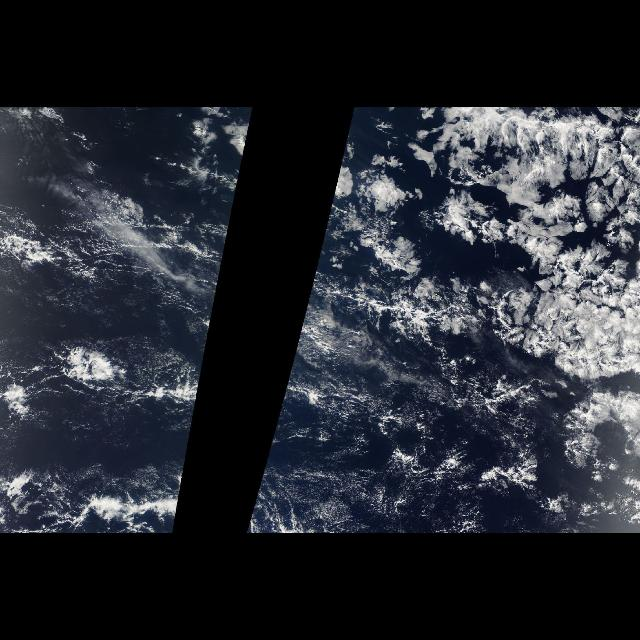Fish: (321, 282, 493, 330)
Flower: (406, 113, 640, 531)
Gravel: (322, 350, 493, 530)
